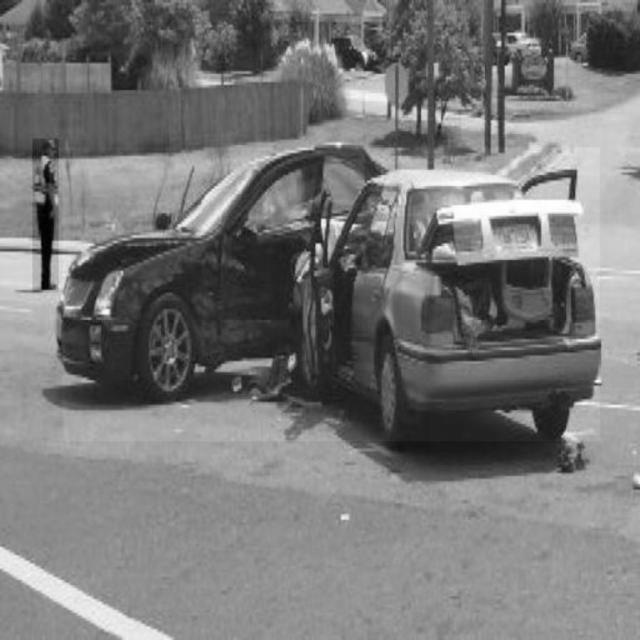accident: (63, 148, 600, 442)
person: (33, 139, 59, 293)
